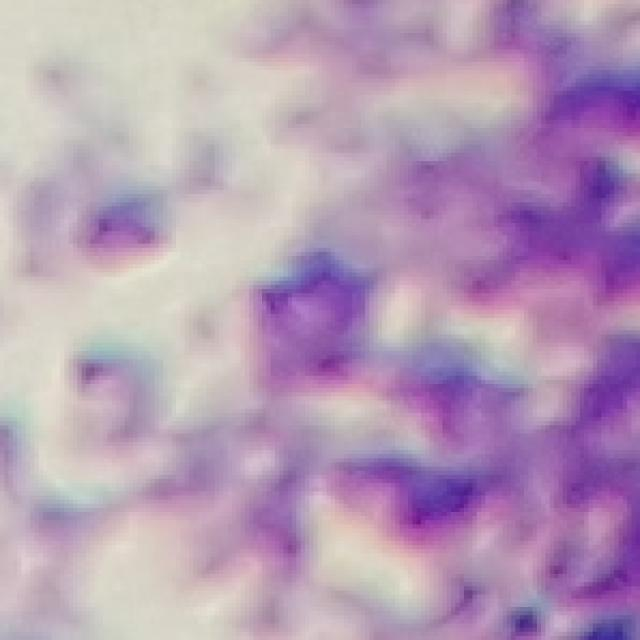non-sperm: (237, 248, 488, 542)
